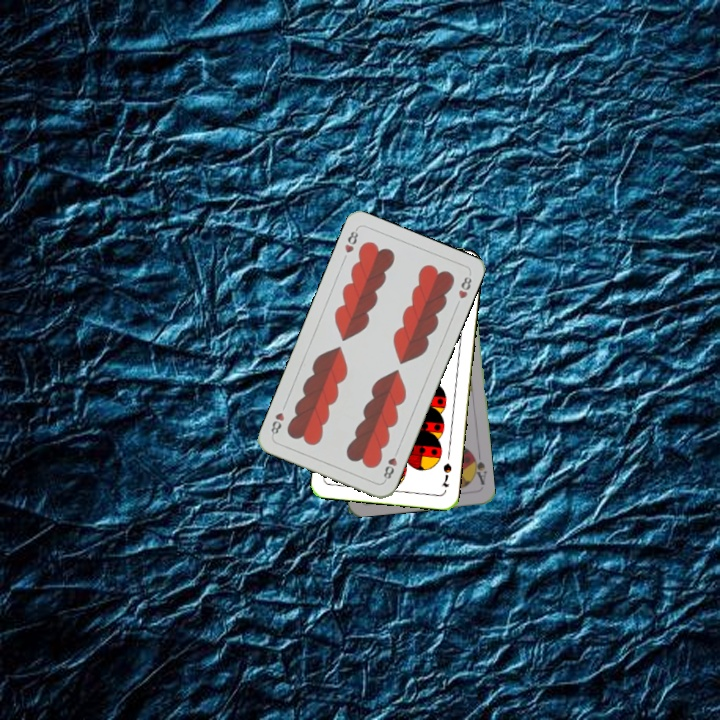H8: (379, 445, 401, 484), (340, 224, 361, 256)
S7: (437, 459, 454, 490)
SA: (467, 450, 489, 488)
